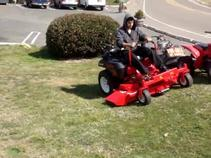crouch: (118, 1, 125, 12)
sit: (118, 14, 141, 52)
stay: (118, 1, 125, 12)
